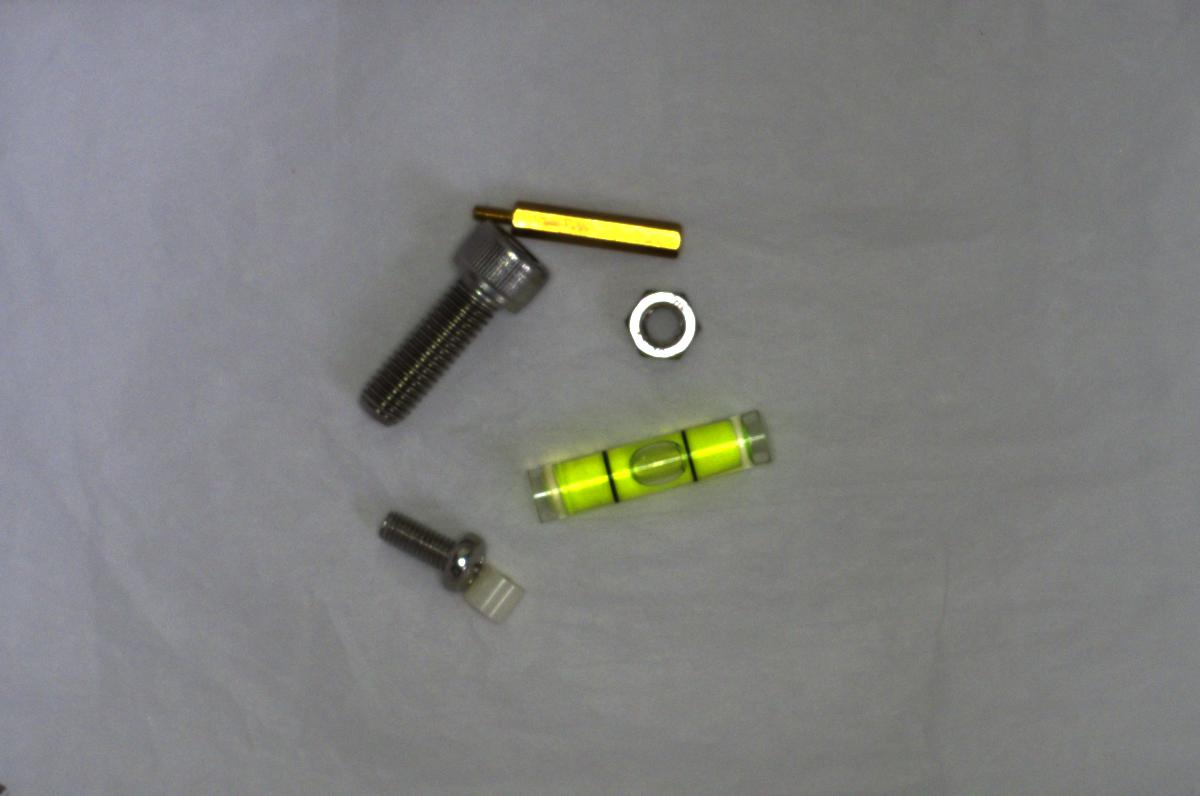Hexagon nut: (619, 275, 711, 370)
Hexagon pillar: (466, 195, 690, 255)
Hexagon screw: (352, 216, 548, 425)
Horizontal bubble: (522, 414, 792, 527)
Plastic cushion pillar: (459, 567, 525, 625)
Round head screw: (367, 502, 485, 590)
